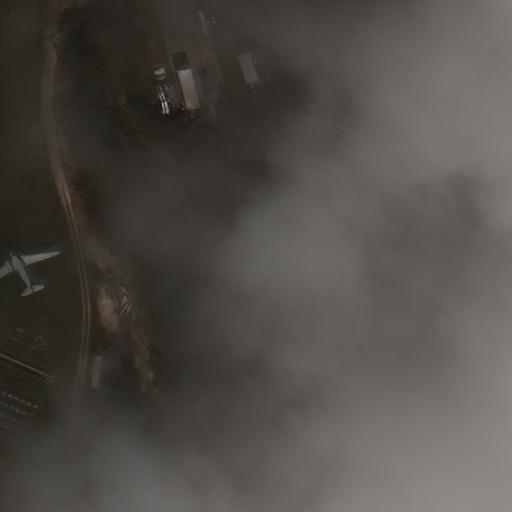Medium Civil Transport: (194, 97, 239, 122)
Military Transport: (0, 250, 59, 292)
Small Civil Transport: (195, 9, 216, 37)
